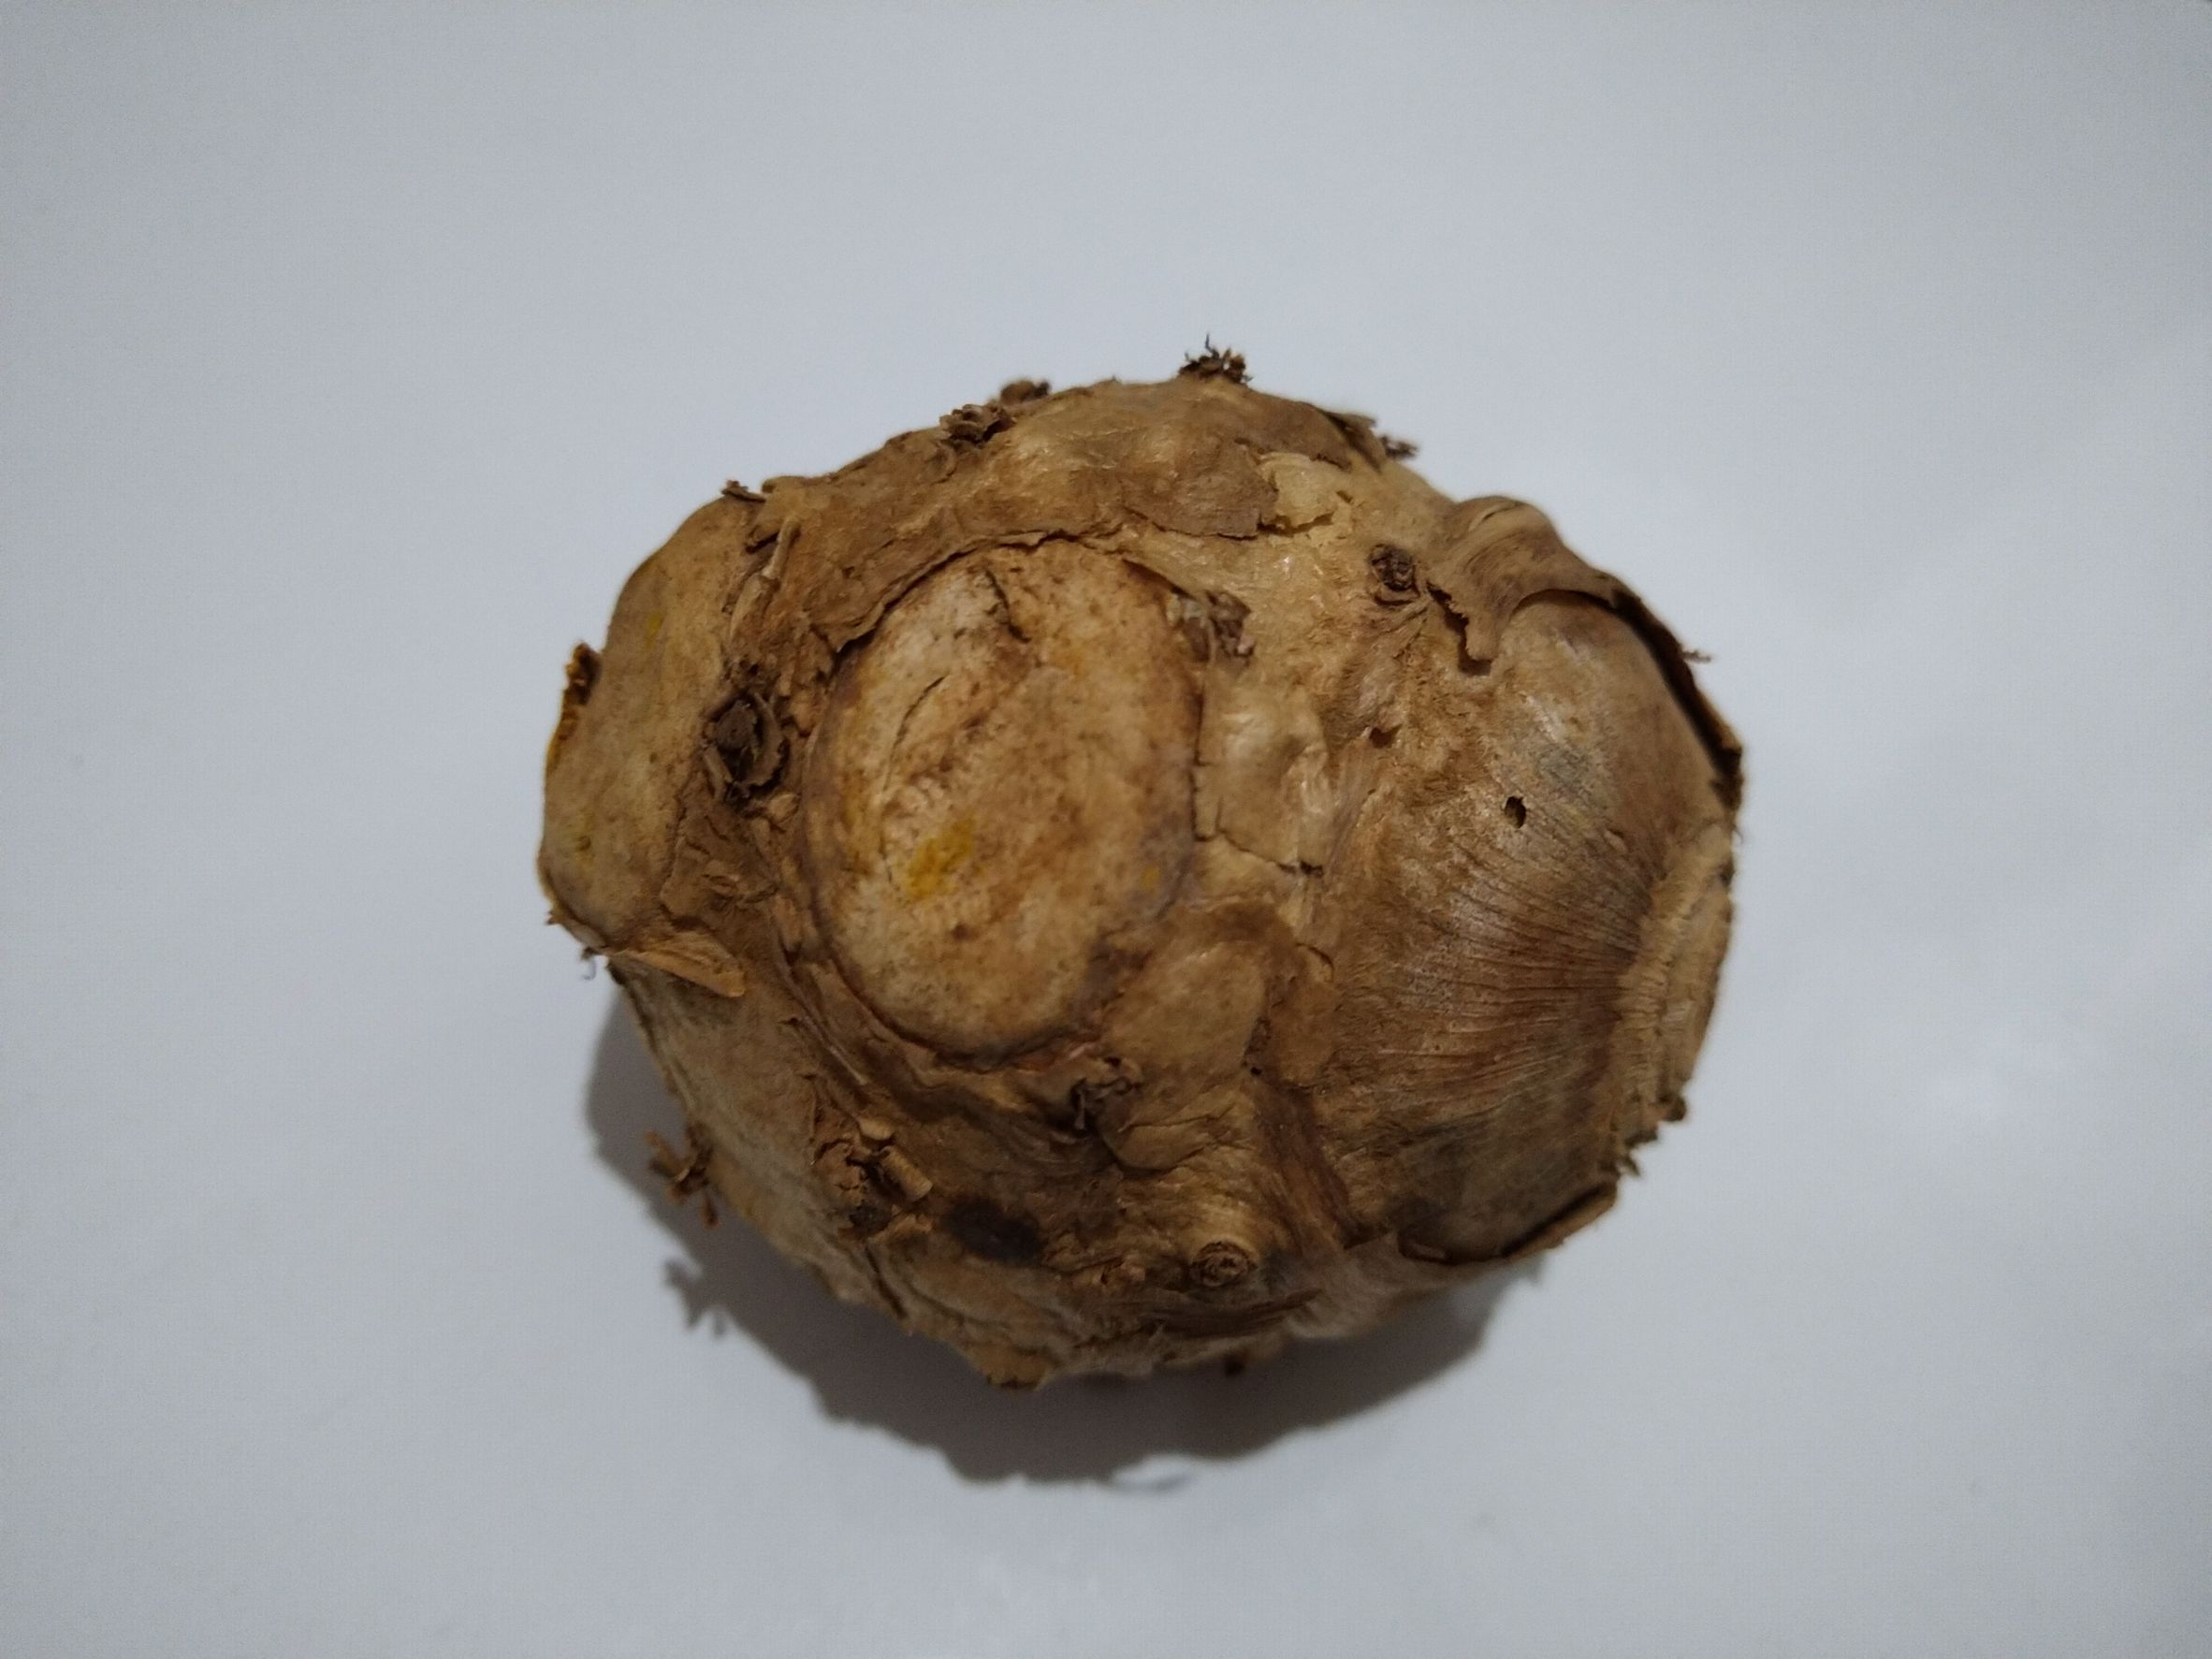Temulawak: (554, 382, 1750, 1391)
